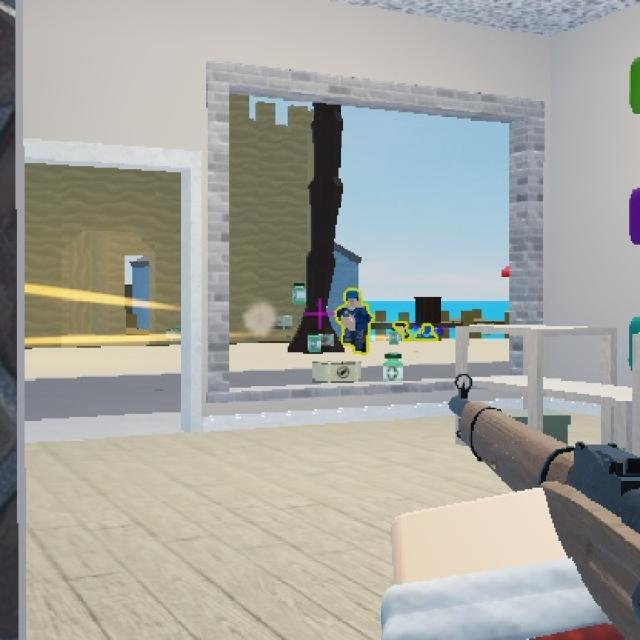player: (334, 288, 376, 354), (418, 318, 444, 342), (389, 318, 412, 344)
